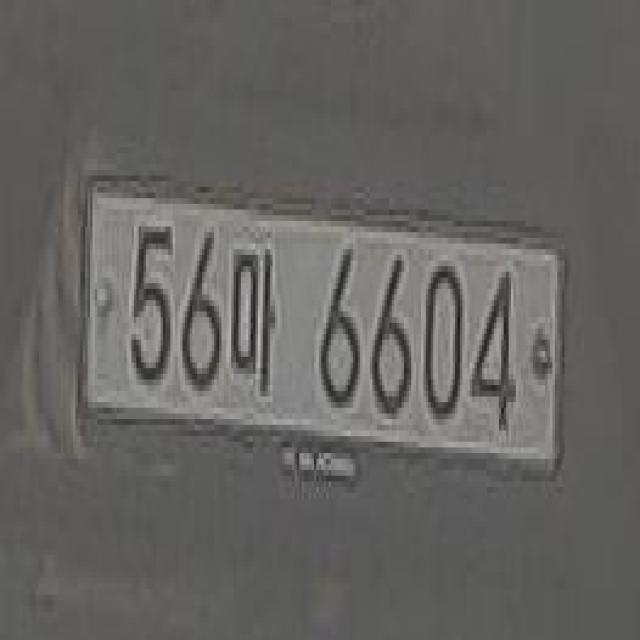illegal_plate: (82, 177, 565, 501)
